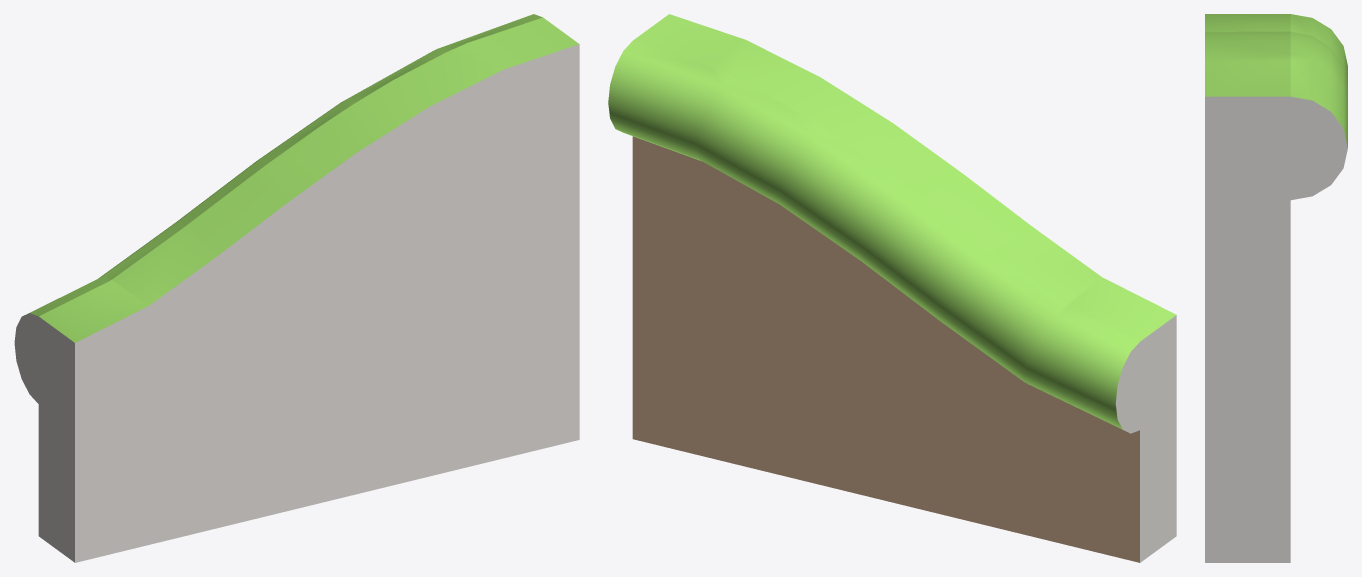
The model's file is inclineGrassPlatformEdgeMirrored.glb.
3 renders of one model, left to right at view 1: azimuth 30°, elevation 25°; view 2: azimuth 150°, elevation 25°; view 3: azimuth 270°, elevation 25°, orthographic. The views are drawn at different scales.
Visible parts, largest first — view 1: Hidden, Dirt_Wall; view 2: Dirt_Wall, Hidden; view 3: Hidden, Dirt_Wall.
Boxes of the visible parts, x1,y1,x2,y2 form: Hidden: [14, 44, 579, 562]; Dirt_Wall: [24, 14, 578, 342]; Dirt_Wall: [608, 14, 1176, 562]; Hidden: [1115, 315, 1176, 562]; Hidden: [1205, 96, 1347, 562]; Dirt_Wall: [1205, 14, 1347, 147].
Size of the model in its own units: 3 by 2.25 by 0.625.
